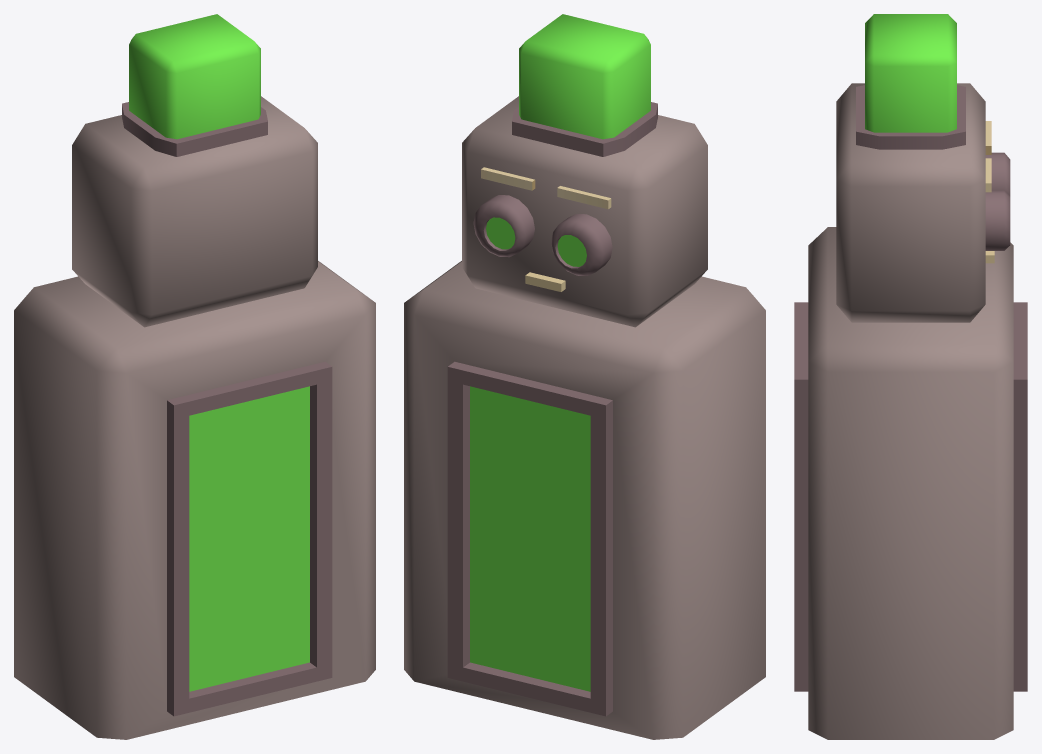
The model's file is Manager.fbx.
The picture shows the model from 3 angles, left to right: view 1: azimuth 30°, elevation 25°; view 2: azimuth 150°, elevation 25°; view 3: azimuth 270°, elevation 25°; orthographic projection.
Parts seen in each view (by area): view 1: Body, Head; view 2: Body, Head, R_Eye, L_Eye, R_Brow, L_Brow; view 3: Body, Head, L_Eye, R_Eye.
Boxes of the visible parts, <box> form: Body: <box>14,261,375,739</box>; Head: <box>72,14,317,327</box>; Body: <box>404,261,765,739</box>; Head: <box>462,14,707,327</box>; R_Eye: <box>551,214,612,275</box>; L_Eye: <box>473,195,534,257</box>; R_Brow: <box>557,186,611,209</box>; L_Brow: <box>481,167,535,190</box>; Body: <box>794,227,1027,739</box>; Head: <box>836,14,985,322</box>; L_Eye: <box>985,190,1010,250</box>; R_Eye: <box>985,152,1010,195</box>.
Size of the model in its own units: 17.55 by 38.22 by 12.66.
